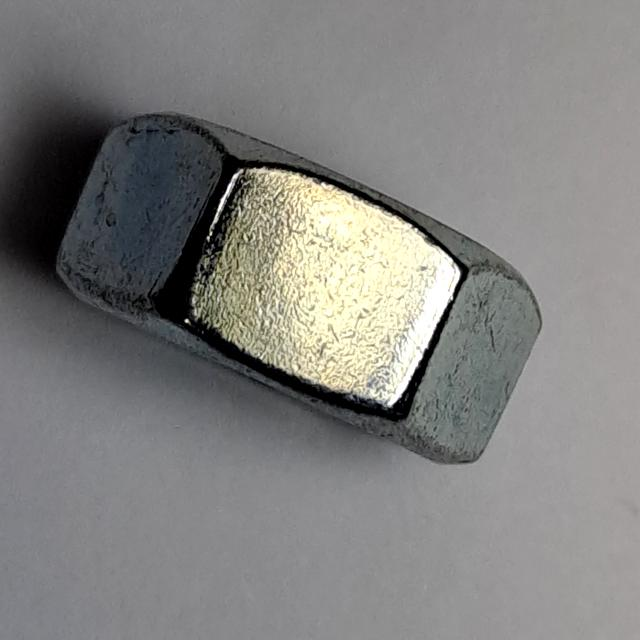Side_Excellent: (44, 97, 550, 479)
